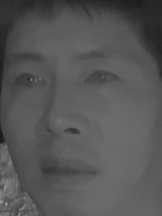eye: (82, 67, 123, 92), (13, 69, 49, 93)
mouth: (33, 150, 99, 191)
